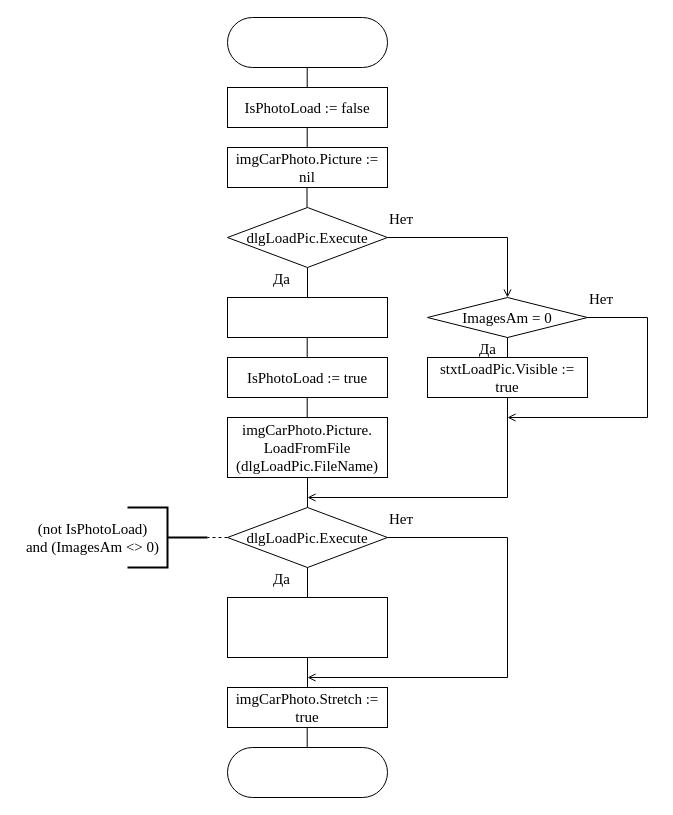
This 673x815 diagram has some shape labels left out. Here are the shapes that lost their labels. From the top down, the box of each, then its label:
(226, 16, 388, 68): Вход btnPhotoInpClick ( Sender )
(226, 296, 388, 338): stxtLoadPic.Visible := false
(226, 596, 388, 658): imgCarPhoto.Picture. LoadFromFile( CarExpl.Images[CurrImg])
(226, 746, 388, 798): Выход btnPhotoInpClick ( Sender )
